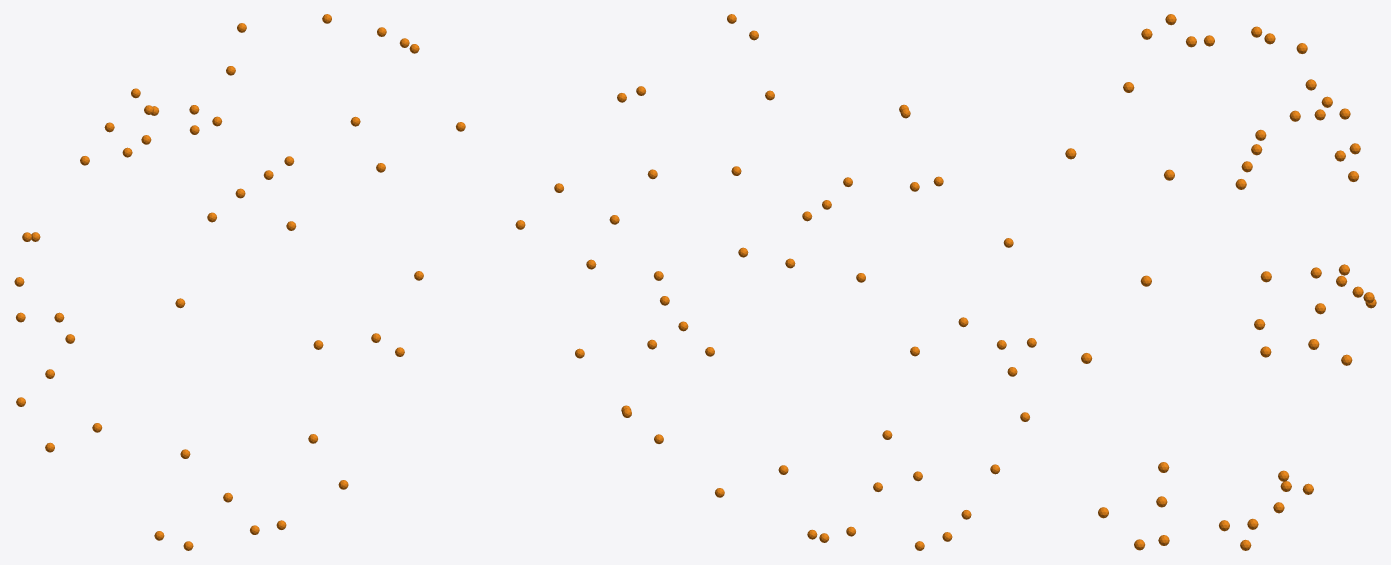
The model's file is citrus_f_fruit.obj.
3 views of the same model, side by side, from view 1: azimuth 30°, elevation 25°; view 2: azimuth 150°, elevation 25°; view 3: azimuth 270°, elevation 25° (orthographic). The views are drawn at different scales.
Visible parts, largest first — view 1: fruit; view 2: fruit; view 3: fruit.
Part boxes in pixels (<box>): fruit: <box>14,14,525,550</box>; fruit: <box>554,14,1036,550</box>; fruit: <box>1065,14,1376,550</box>.
Bounding box in the file's own units: 3.97 × 4.1 × 2.09.
